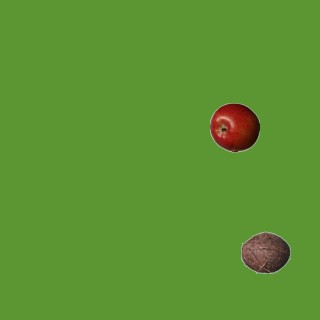Apple Braeburn: (209, 102, 259, 152)
Cocos: (240, 227, 290, 277)
